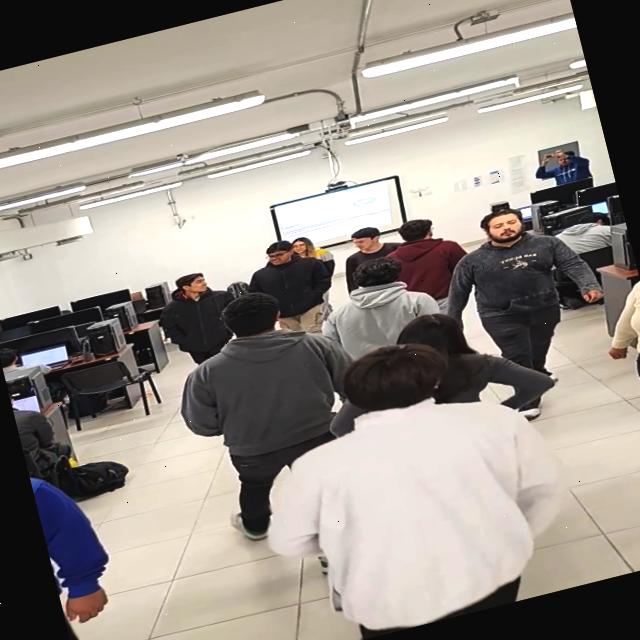Persona: (243, 319, 568, 640), (165, 290, 338, 498), (460, 202, 577, 363), (320, 250, 426, 356), (142, 262, 232, 376), (384, 203, 462, 306), (253, 236, 321, 327), (527, 138, 596, 201), (335, 220, 394, 268)
